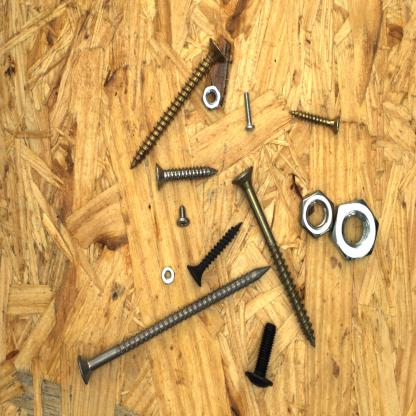screw: (74, 263, 274, 388), (228, 164, 319, 350), (128, 33, 231, 174), (184, 218, 245, 291), (242, 318, 280, 390), (150, 159, 226, 192), (285, 108, 345, 138), (241, 89, 258, 135), (174, 202, 193, 229)
